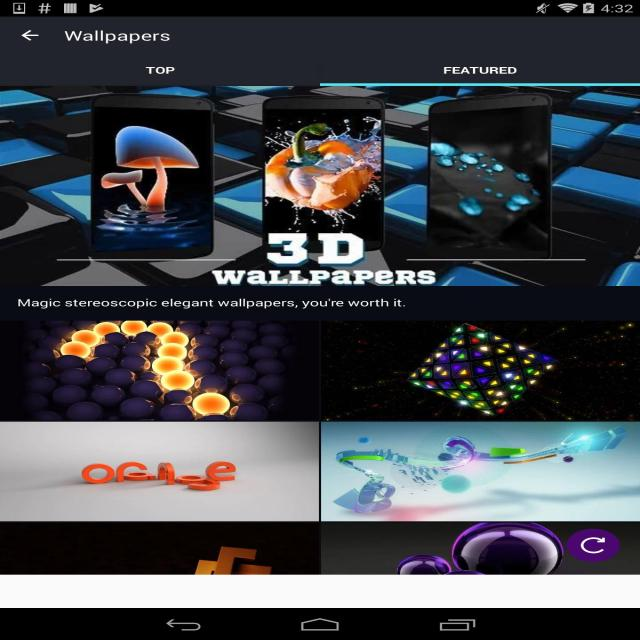button: (317, 56, 640, 84), (5, 58, 316, 85), (18, 26, 42, 43)
heading: (58, 26, 179, 47)
image: (2, 312, 640, 574), (1, 87, 640, 284)
text: (19, 298, 409, 310)
